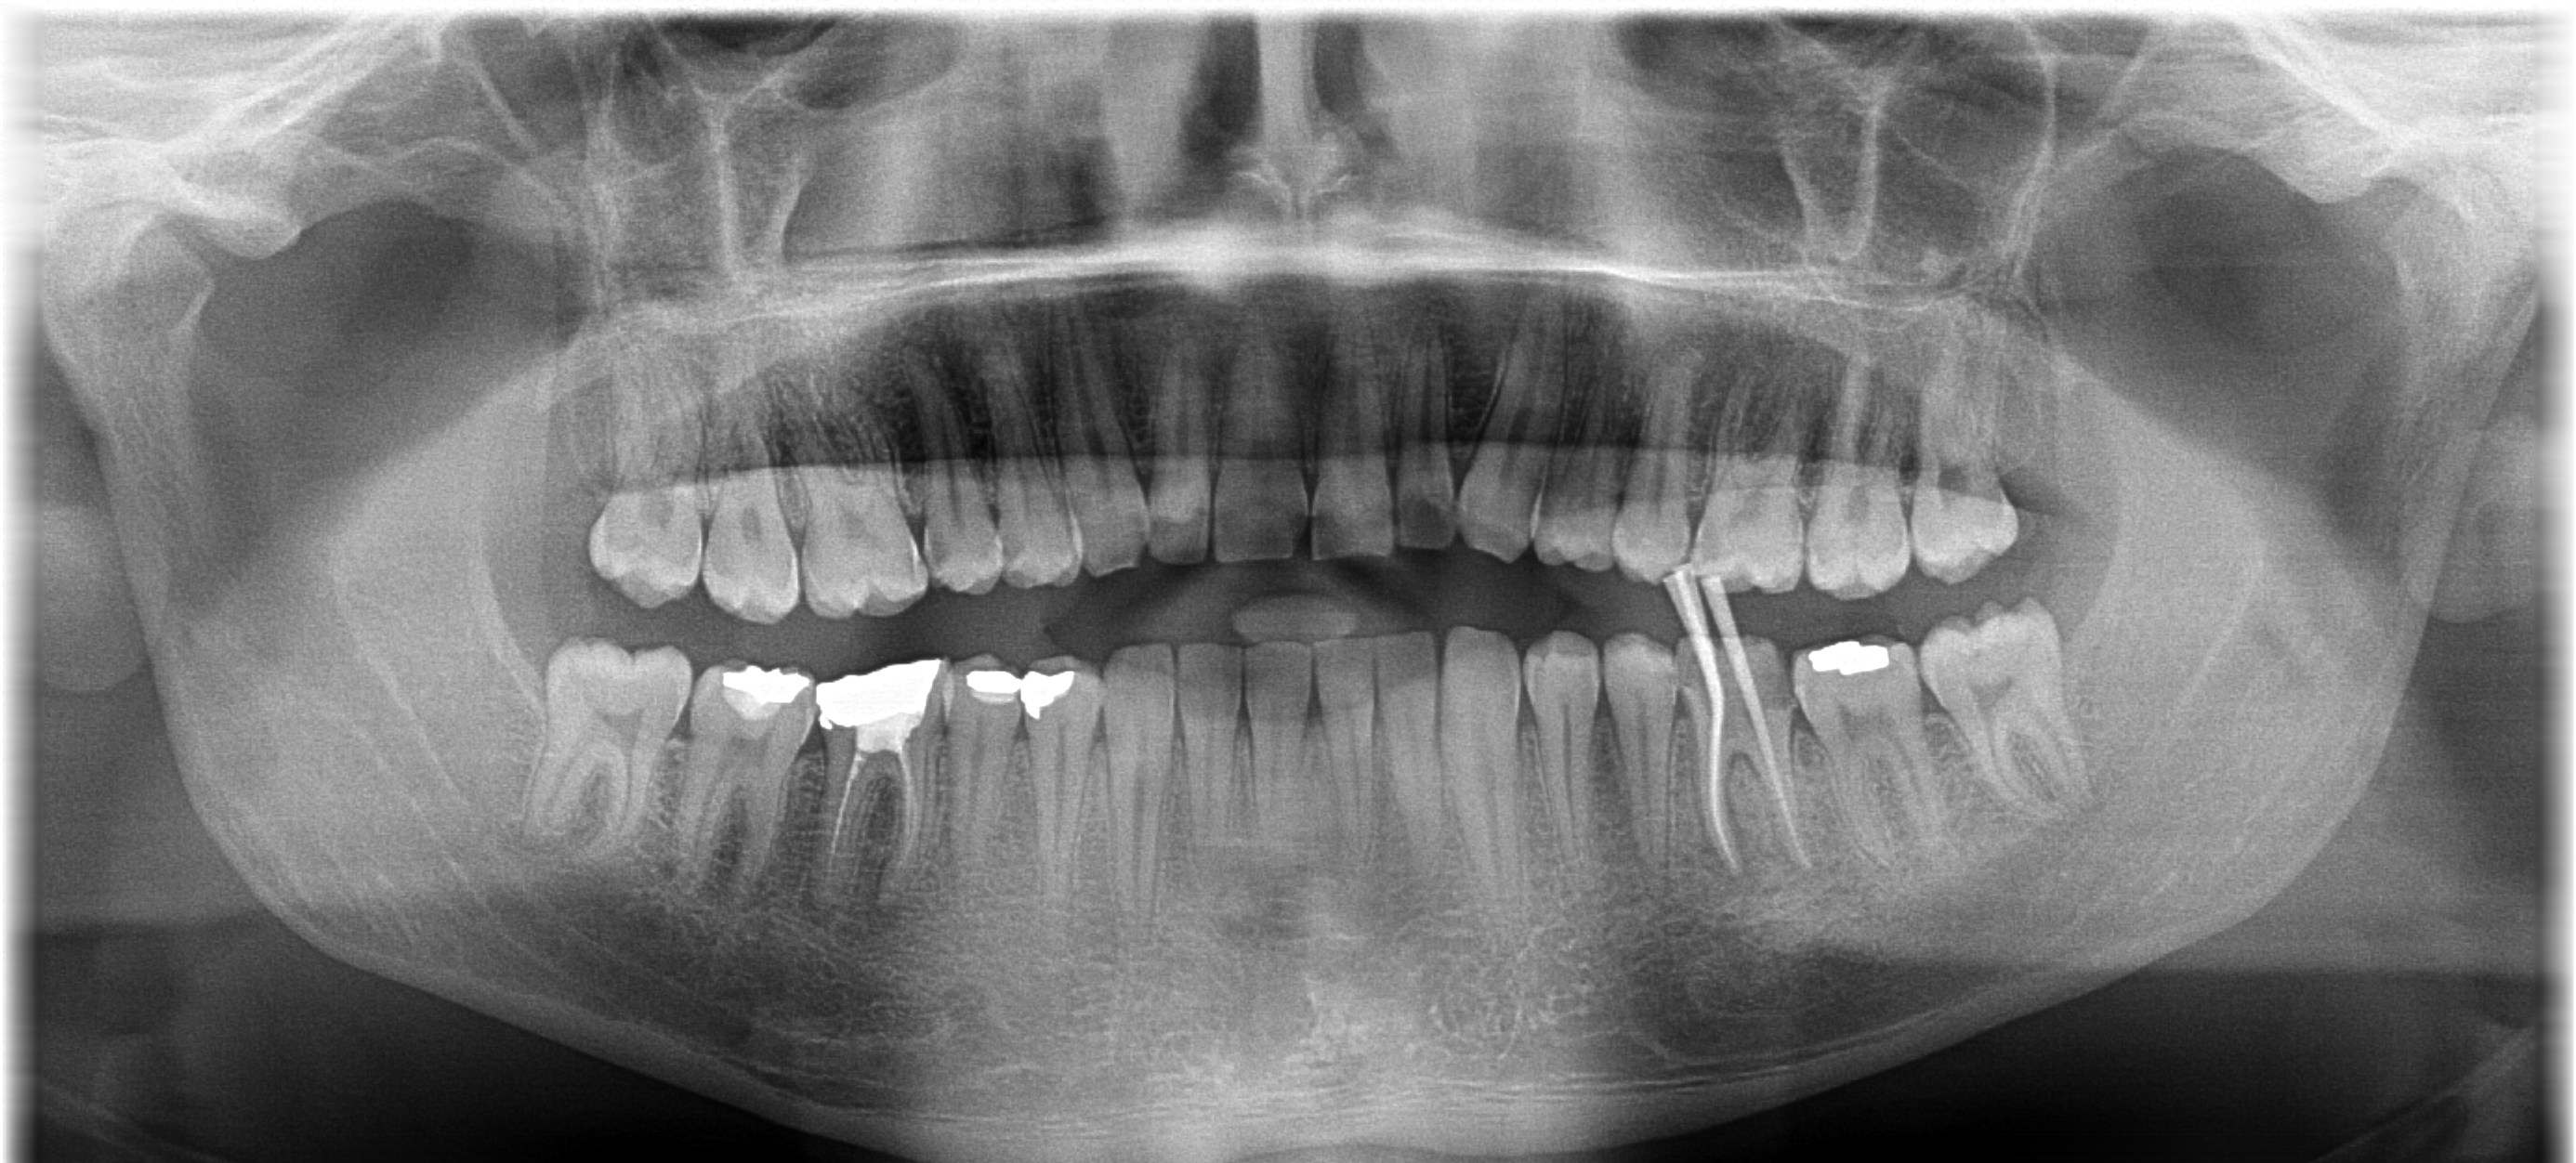cordal: (508, 613, 697, 871), (1901, 586, 2098, 833), (1896, 335, 2052, 591), (560, 358, 706, 614)
tratamiento_conducto: (793, 632, 953, 912)
